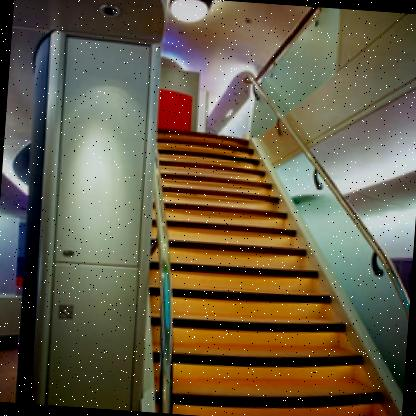stair: (129, 115, 416, 416)
